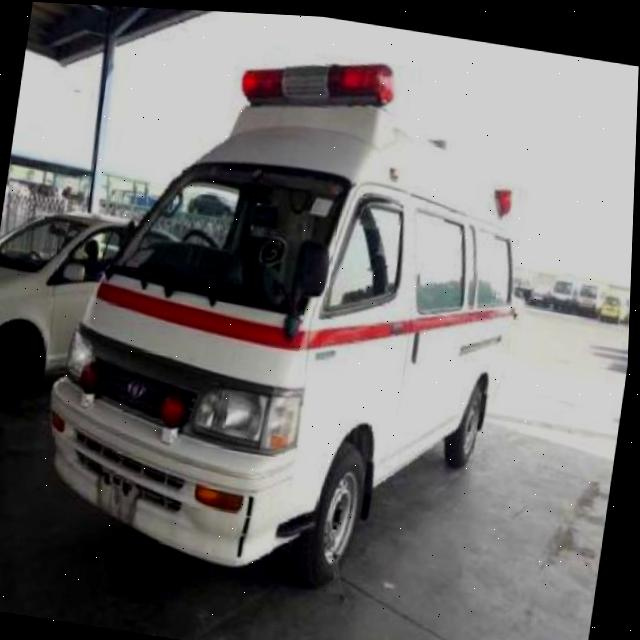emergency: (34, 15, 556, 610)
